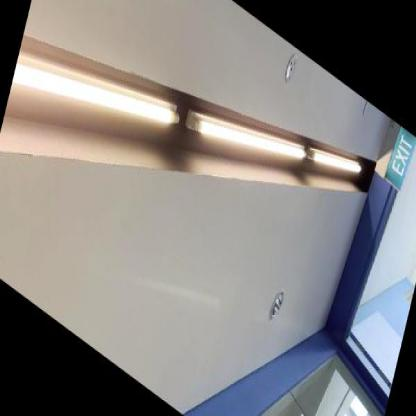light_on: (7, 0, 192, 218), (180, 42, 318, 230), (309, 119, 366, 202)
